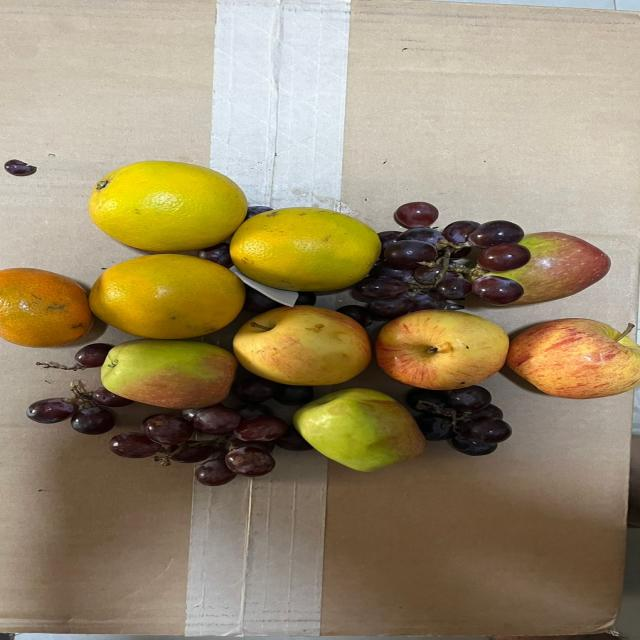hoja: (223, 257, 310, 308)
